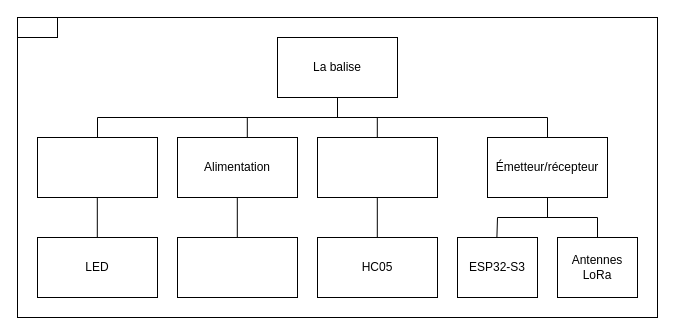
Image size: 675x335. Some labels were removed from this diagram. Each missing label, with the box of its shape:
BDD: (16, 16, 58, 38)
Boitier: (36, 136, 158, 198)
Connectivité: (316, 136, 438, 198)
